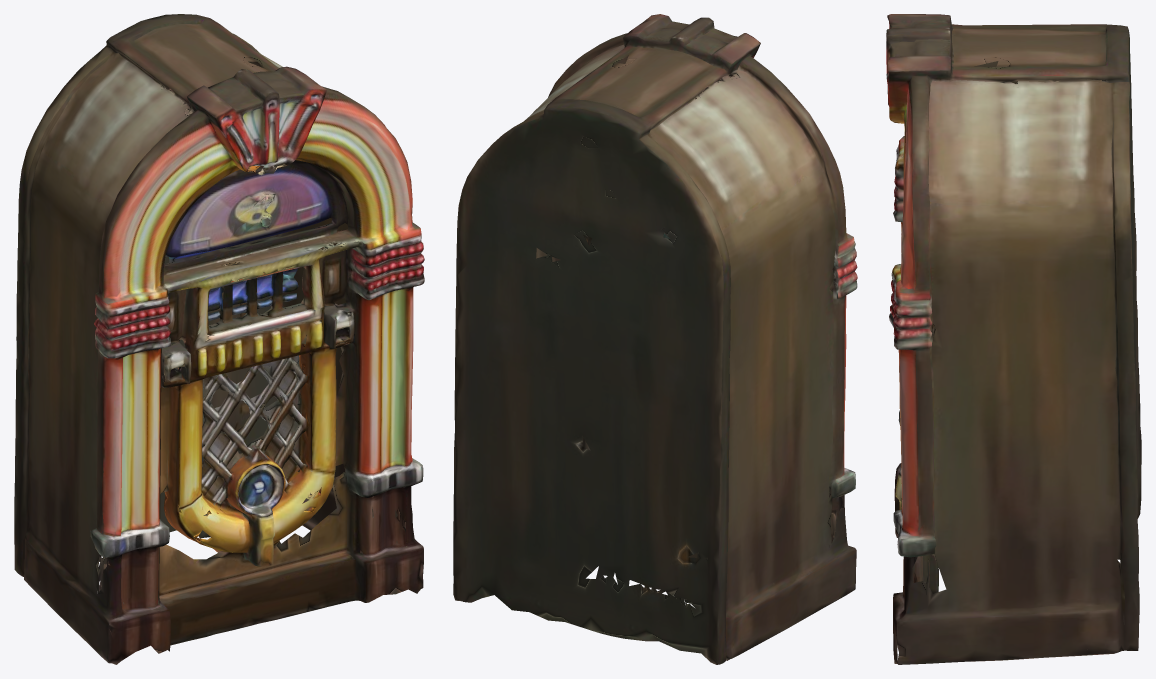
The model's file is jukebox.glb.
The picture shows the model from 3 angles, left to right: view 1: azimuth 30°, elevation 25°; view 2: azimuth 150°, elevation 25°; view 3: azimuth 270°, elevation 25°; orthographic projection. The views are drawn at different scales.
Parts seen in each view (by area): view 1: piece; view 2: piece; view 3: piece.
Boxes of the visible parts, <box> form: piece: <box>14,14,424,664</box>; piece: <box>453,14,857,664</box>; piece: <box>886,14,1141,664</box>.
Bounding box in the file's own units: 0.9847 × 1.6 × 0.66.
1 material, 1 textured.
